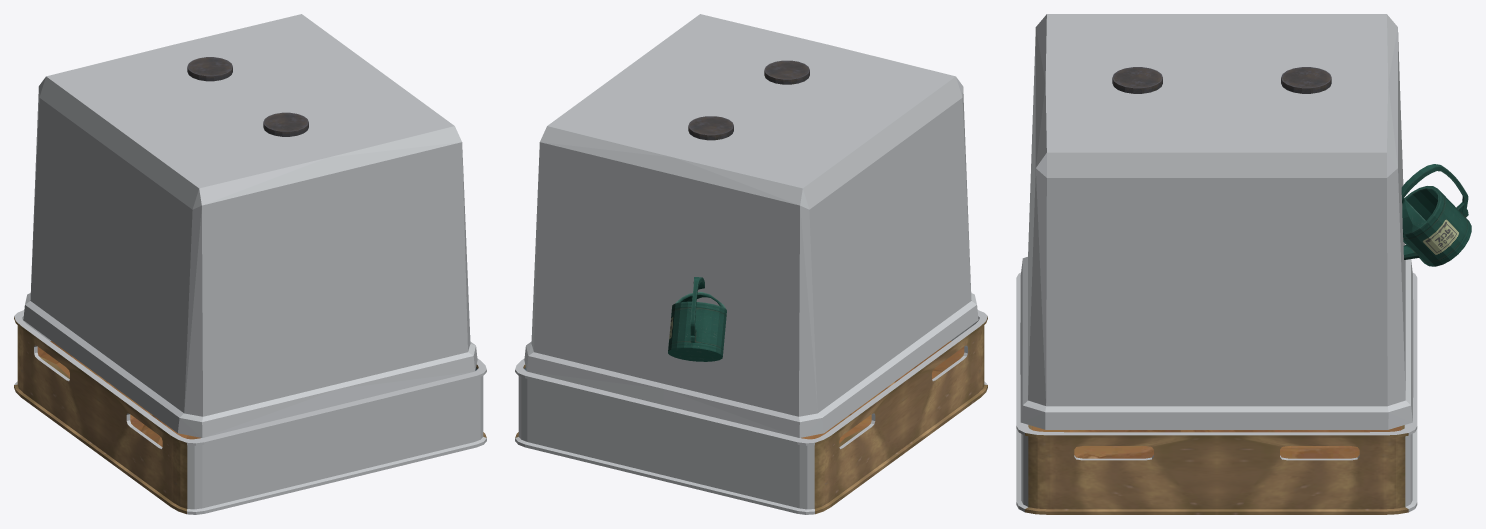
File: P_Baowen03.obj
3 renders of one model, left to right at view 1: azimuth 30°, elevation 25°; view 2: azimuth 150°, elevation 25°; view 3: azimuth 270°, elevation 25°, orthographic. The views are drawn at different scales.
Bounding box in the file's own units: 2.03 × 2 × 2.33.
5 materials, 5 textured.
